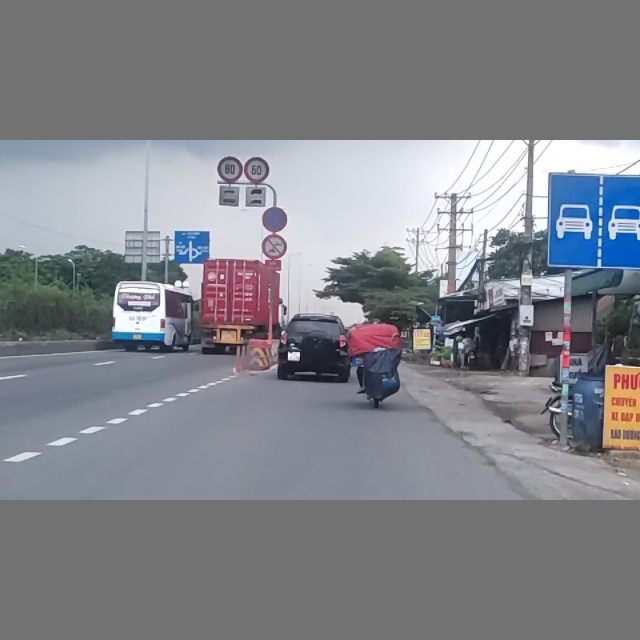P.111: (261, 233, 287, 259)
P.127*60: (245, 157, 270, 183)
P.127*80: (217, 157, 243, 183)
P.130: (262, 206, 289, 232)
R.415a: (548, 173, 640, 268)
